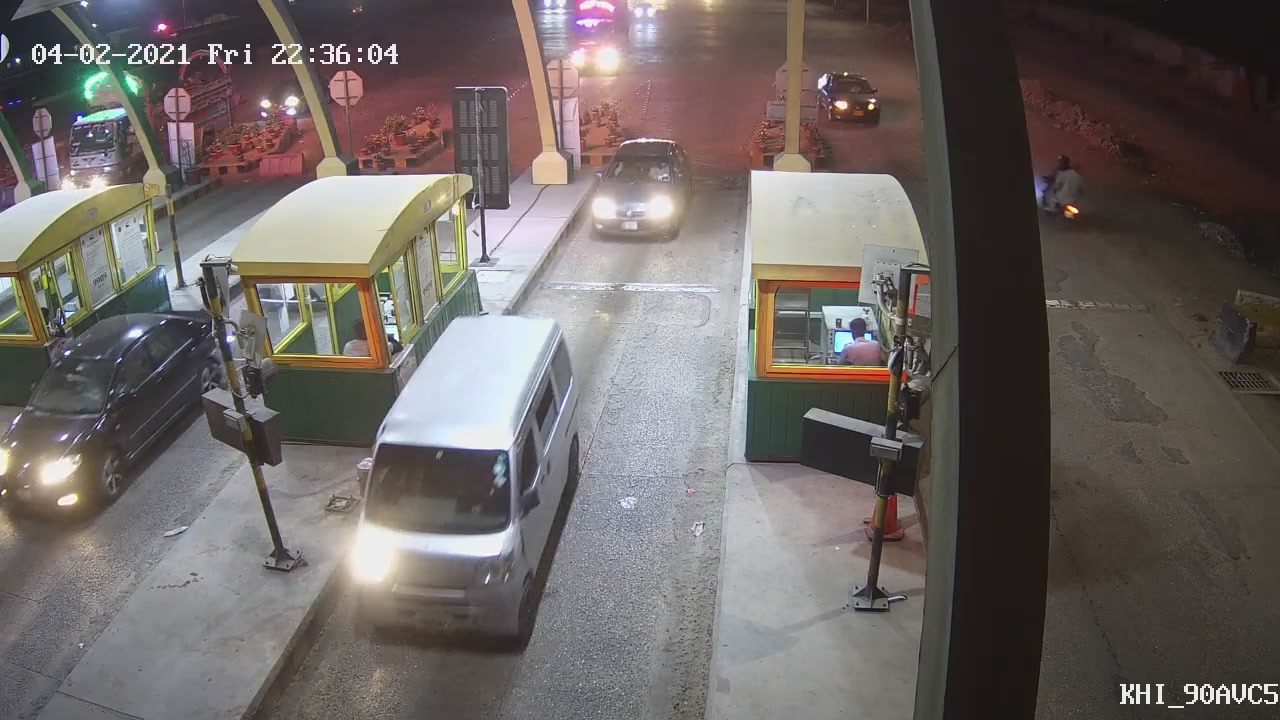F1: (349, 311, 586, 639), (585, 132, 694, 244)
